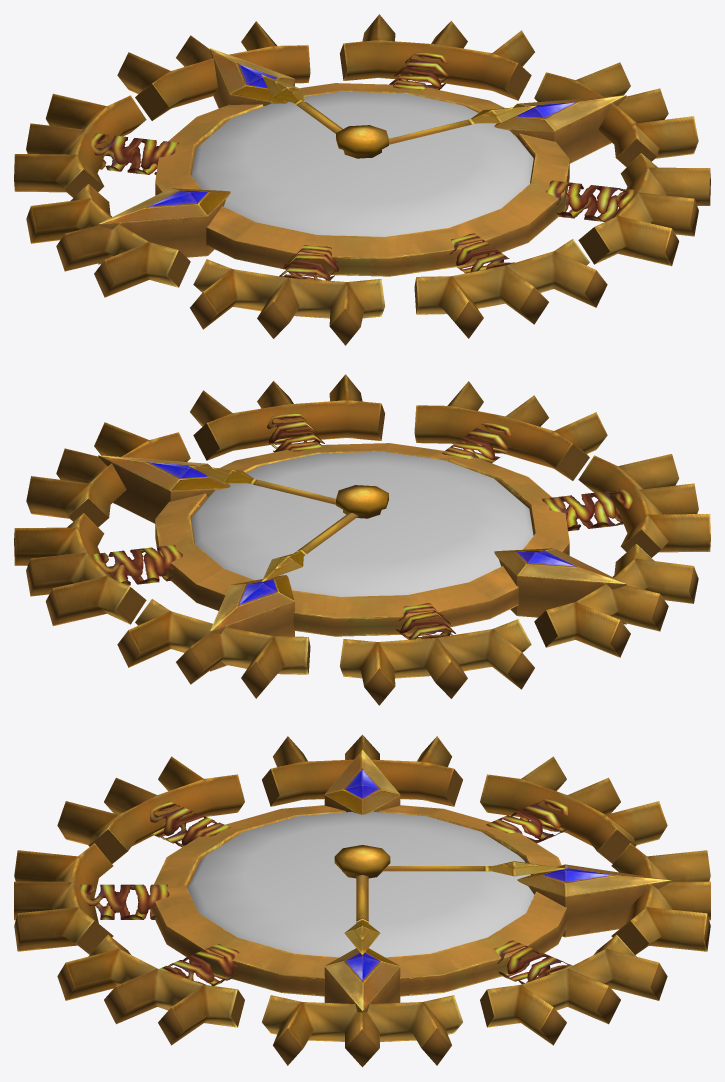
File: Battle03_Watch_01.FBX
3 views of the same model, one above another, from view 1: azimuth 30°, elevation 25°; view 2: azimuth 150°, elevation 25°; view 3: azimuth 270°, elevation 25° (orthographic).
Visible parts, largest first — view 1: Battle03_Watch_01_01, Battle03_Watch_01_02, Battle03_Watch_01_03, Battle03_Watch_01_04; view 2: Battle03_Watch_01_01, Battle03_Watch_01_02, Battle03_Watch_01_04, Battle03_Watch_01_03; view 3: Battle03_Watch_01_01, Battle03_Watch_01_02, Battle03_Watch_01_04, Battle03_Watch_01_03.
Boxes of the visible parts, box(x1,y1,x2,y2) form: Battle03_Watch_01_01: box(14, 14, 710, 345); Battle03_Watch_01_02: box(191, 91, 533, 236); Battle03_Watch_01_03: box(389, 105, 536, 144); Battle03_Watch_01_04: box(261, 74, 342, 133); Battle03_Watch_01_01: box(14, 374, 710, 705); Battle03_Watch_01_02: box(191, 451, 533, 596); Battle03_Watch_01_04: box(261, 513, 358, 581); Battle03_Watch_01_03: box(188, 465, 335, 504); Battle03_Watch_01_01: box(14, 734, 710, 1067); Battle03_Watch_01_02: box(187, 812, 534, 957); Battle03_Watch_01_04: box(382, 861, 566, 876); Battle03_Watch_01_03: box(344, 875, 380, 955).
Bounding box in the file's own units: 10.91 × 1.64 × 10.91.
